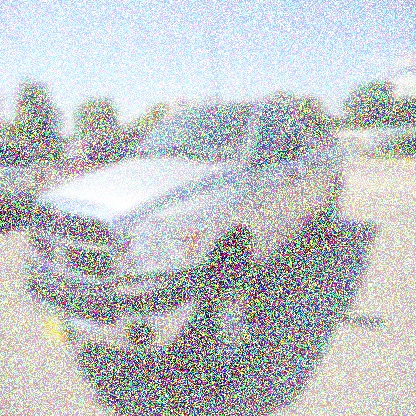Vehicle: (23, 98, 348, 379)
